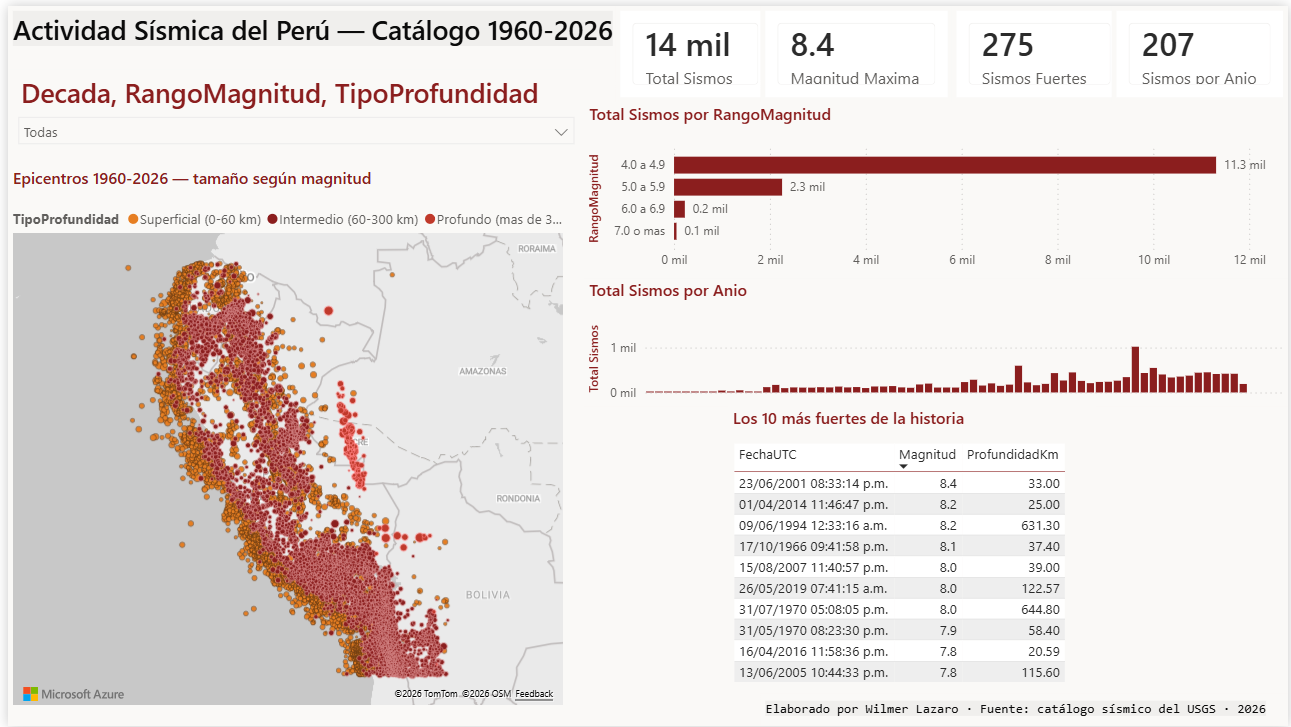

The page's visual inventory and layout, read from the dashboard file:
{"tool":"powerbi","page":{"name":"Página 1","canvas":[1280,720],"ordinal":0},"visuals":[{"type":"azureMap","title":"Epicentros 1960-2026 — tamaño según magnitud","fields":{"Series":["sismos_peru.TipoProfundidad"],"Size":["Sum(sismos_peru.Magnitud)"],"X":["sismos_peru.Longitud"],"Y":["sismos_peru.Latitud"]},"box":[0,160,560,544],"z":0},{"type":"columnChart","fields":{"Category":["sismos_peru.Anio"],"Y":["sismos_peru.Total Sismos"]},"box":[576,272,704,128],"z":1},{"type":"barChart","fields":{"Category":["sismos_peru.RangoMagnitud"],"Y":["sismos_peru.Total Sismos"]},"box":[576,96,704,176],"z":2},{"type":"tableEx","title":"Los 10 más fuertes de la historia","fields":{"Values":["sismos_peru.FechaUTC","sismos_peru.Magnitud","sismos_peru.ProfundidadKm"]},"box":[720,400,368,288],"z":3},{"type":"slicer","fields":{"Values":["sismos_peru.Decada","sismos_peru.RangoMagnitud","sismos_peru.TipoProfundidad"]},"box":[0,64,576,96],"z":4},{"type":"textbox","box":[0,0,752,48],"z":5},{"type":"textbox","box":[752,688,528,32],"z":6},{"type":"cardVisual","fields":{"Data":["sismos_peru.Total Sismos"]},"box":[608,0,160,96],"z":7},{"type":"cardVisual","fields":{"Data":["sismos_peru.Magnitud Maxima"]},"box":[752,0,192,96],"z":8},{"type":"cardVisual","fields":{"Data":["sismos_peru.Sismos Fuertes"]},"box":[944,0,176,96],"z":9},{"type":"cardVisual","fields":{"Data":["sismos_peru.Sismos por Anio"]},"box":[1104,0,176,96],"z":10}]}

Visuals, with their boxes in screenshot pixels (x1, y1, x2, y2), scaled from the page's 1280x720 canvas onto the 1291x727 screenshot:
"Epicentros 1960-2026 — tamaño según magnitud" azureMap: 0 162 565 711
columnChart - sismos_peru.Anio x sismos_peru.Total Sismos: 581 275 1290 404
barChart - sismos_peru.RangoMagnitud x sismos_peru.Total Sismos: 581 97 1290 275
"Los 10 más fuertes de la historia" tableEx: 726 404 1097 695
slicer - sismos_peru.Decada x sismos_peru.RangoMagnitud: 0 65 581 162
textbox: 0 0 758 48
textbox: 758 695 1290 726
cardVisual - sismos_peru.Total Sismos: 613 0 775 97
cardVisual - sismos_peru.Magnitud Maxima: 758 0 952 97
cardVisual - sismos_peru.Sismos Fuertes: 952 0 1130 97
cardVisual - sismos_peru.Sismos por Anio: 1113 0 1290 97
